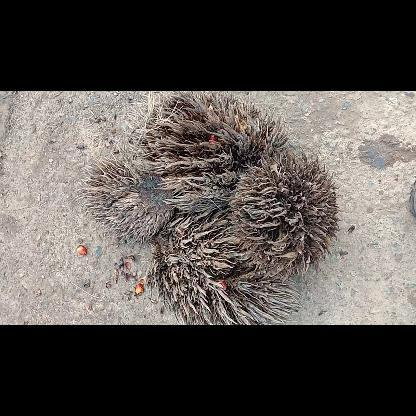Janjang kosong: (126, 90, 288, 212), (148, 214, 300, 324), (228, 150, 338, 280), (77, 157, 173, 241)
